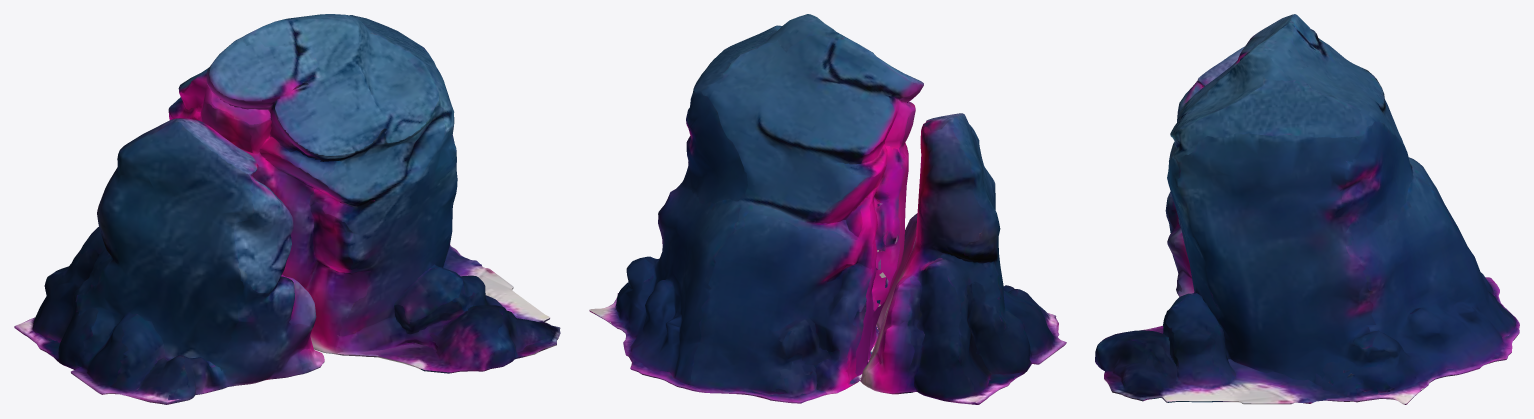
Rendered from shore-stone-13-generated-2026-05-17T20-28-41-090Z.low.glb.
3 views of the same model, side by side, from view 1: azimuth 30°, elevation 25°; view 2: azimuth 150°, elevation 25°; view 3: azimuth 270°, elevation 25° (orthographic). The views are drawn at different scales.
Parts seen in each view (by area): view 1: temp_mesh.ply; view 2: temp_mesh.ply; view 3: temp_mesh.ply.
Part boxes in pixels (bbox=[...]): temp_mesh.ply: bbox=[14, 14, 560, 404]; temp_mesh.ply: bbox=[589, 14, 1066, 404]; temp_mesh.ply: bbox=[1095, 14, 1519, 404].
Size of the model in its own units: 1.97 by 1.36 by 1.82.
Materials: 1 (1 with a texture image).
